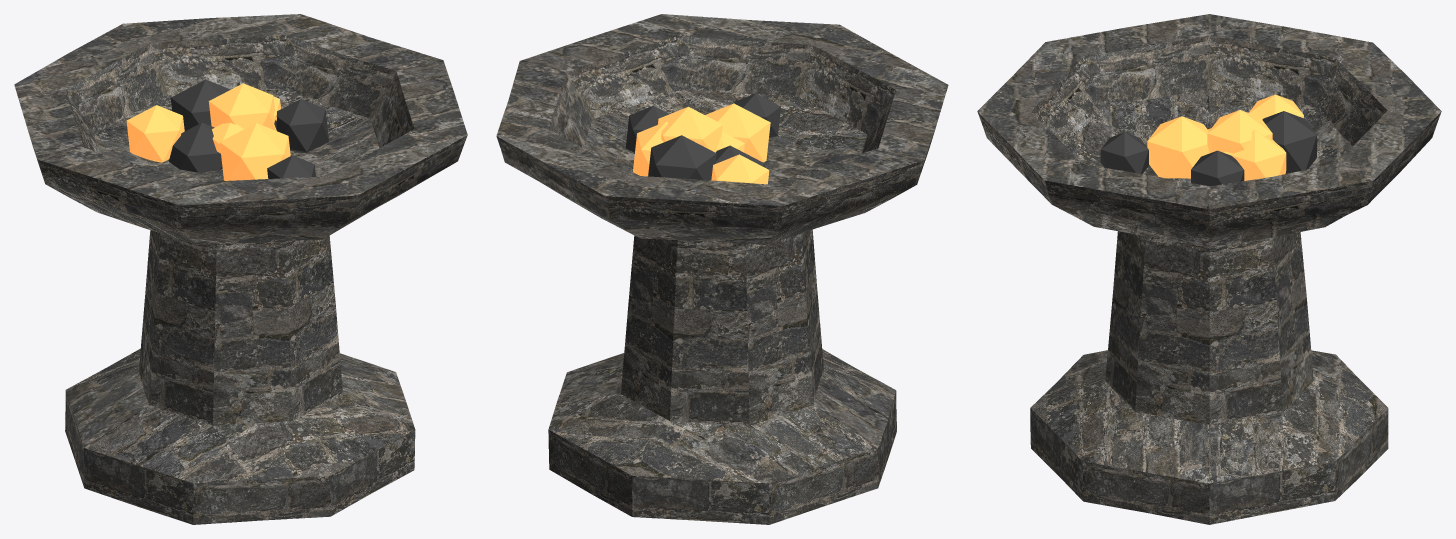
File: stone-brazier-v01.glb
3 renders of one model, left to right at view 1: azimuth 30°, elevation 25°; view 2: azimuth 150°, elevation 25°; view 3: azimuth 270°, elevation 25°, orthographic.
Visible parts, largest first — view 1: stone-brazier; view 2: stone-brazier; view 3: stone-brazier.
Part boxes in pixels (bbox=[...]): stone-brazier: bbox=[14, 14, 467, 524]; stone-brazier: bbox=[496, 14, 948, 524]; stone-brazier: bbox=[977, 14, 1441, 524].
Bounding box in the file's own units: 1.56 × 1.29 × 1.56.
3 materials, 1 textured.
